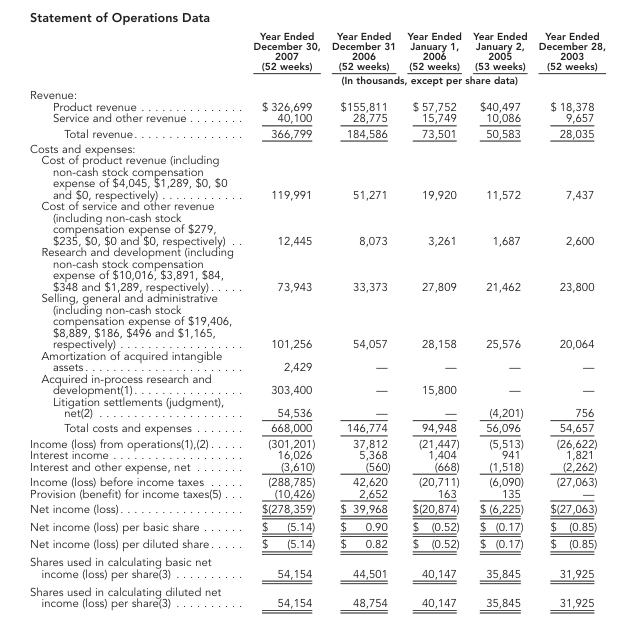table: (29, 29, 604, 609)
table column: (29, 29, 243, 609), (243, 29, 325, 609), (325, 29, 400, 609), (532, 29, 604, 609), (400, 29, 466, 609), (466, 29, 532, 609)
table column header: (29, 29, 604, 86)
table projected row header: (29, 86, 604, 100), (29, 140, 604, 154)
table row: (29, 291, 604, 349), (29, 154, 604, 200), (29, 245, 604, 291), (29, 200, 604, 245), (29, 29, 604, 72), (29, 552, 604, 582), (29, 582, 604, 609), (29, 395, 604, 420), (29, 349, 604, 372), (29, 372, 604, 395), (29, 534, 604, 552), (29, 500, 604, 517), (29, 517, 604, 534), (29, 125, 604, 140), (29, 420, 604, 435), (29, 72, 604, 86), (29, 86, 604, 100), (29, 140, 604, 154), (29, 473, 604, 487), (29, 112, 604, 125), (29, 435, 604, 448), (29, 460, 604, 473), (29, 487, 604, 500), (29, 100, 604, 112), (29, 448, 604, 460)
table spanning cell: (243, 29, 325, 86), (532, 29, 604, 86), (325, 72, 532, 86)
